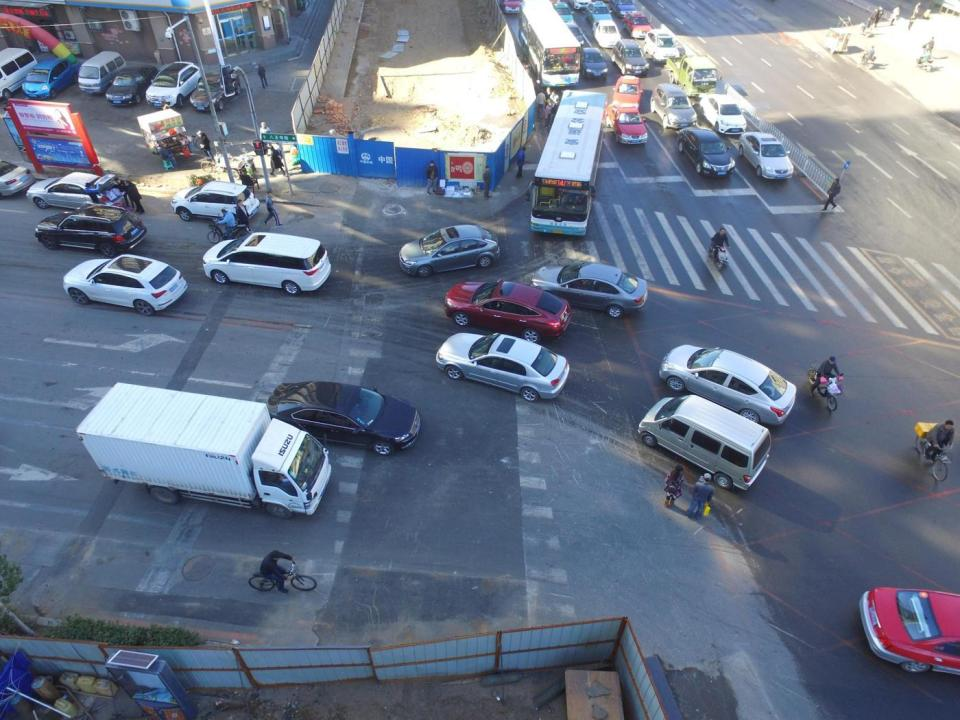bus: (527, 90, 611, 239), (516, 0, 582, 88)
car: (264, 376, 424, 462), (436, 327, 572, 405), (858, 587, 960, 679), (443, 282, 573, 346), (62, 253, 191, 317), (532, 263, 648, 318), (34, 205, 146, 258), (394, 224, 508, 274), (175, 180, 265, 226), (27, 175, 135, 210), (676, 124, 737, 180), (145, 59, 205, 111), (738, 131, 795, 183), (652, 83, 702, 134), (190, 66, 243, 114), (602, 99, 651, 148), (698, 93, 750, 137), (22, 60, 78, 100), (107, 63, 158, 106), (612, 36, 654, 76), (642, 26, 681, 65), (611, 72, 642, 111), (579, 43, 611, 80), (621, 10, 657, 42), (591, 18, 625, 48), (556, 18, 586, 46), (550, 1, 575, 31), (586, 1, 613, 25), (610, 0, 638, 17)
truck: (72, 378, 330, 518), (667, 51, 719, 97)
van: (636, 388, 774, 494), (656, 339, 800, 427), (202, 234, 332, 300), (0, 45, 39, 104), (77, 51, 127, 93)
